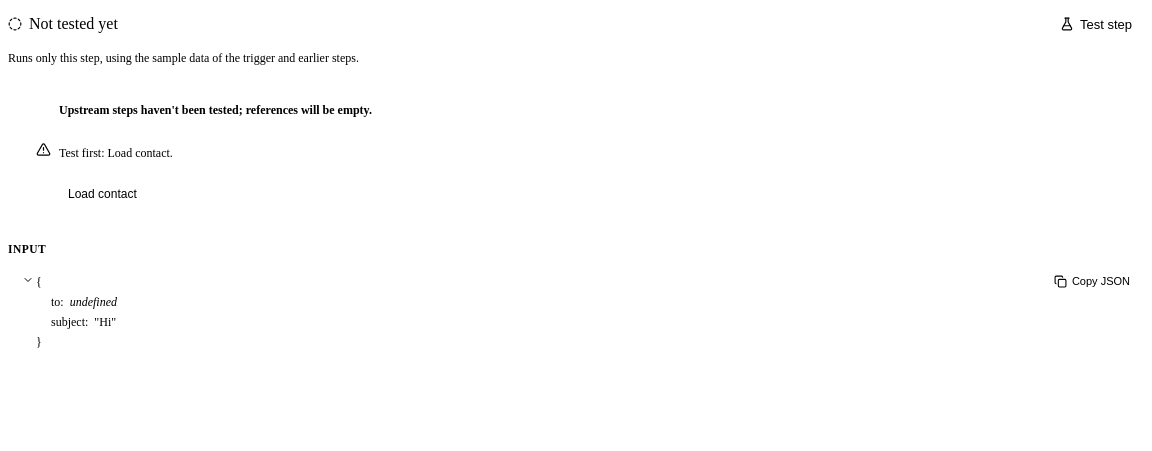
TestStep › a request that fails is reported as such
What coordinates should you click on to do the following:
click the button "Test step"
I would click on:
 (1096, 24)
Its box is [1048,8,1144,40].
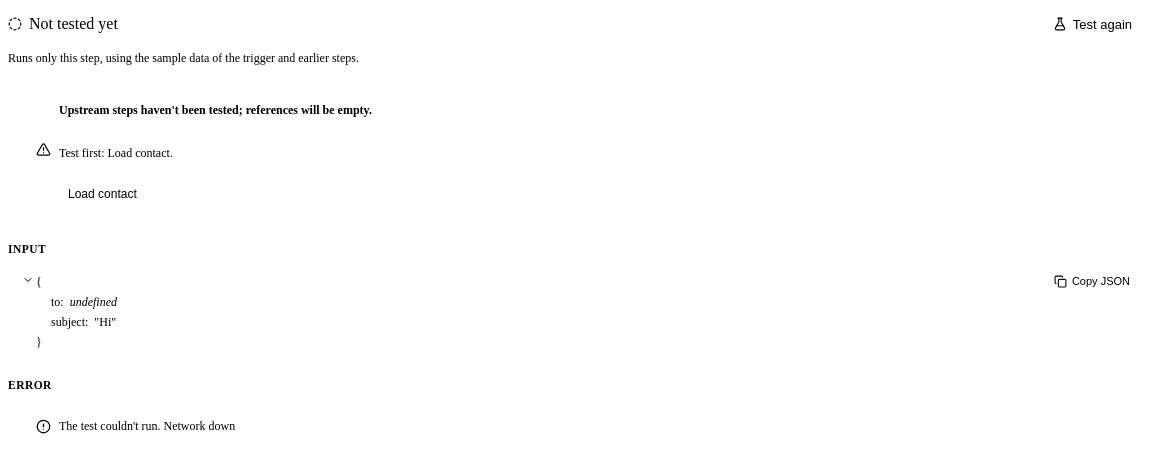
Check: the message reads "The test couldn't run. Network down", box [59,419,235,433]
